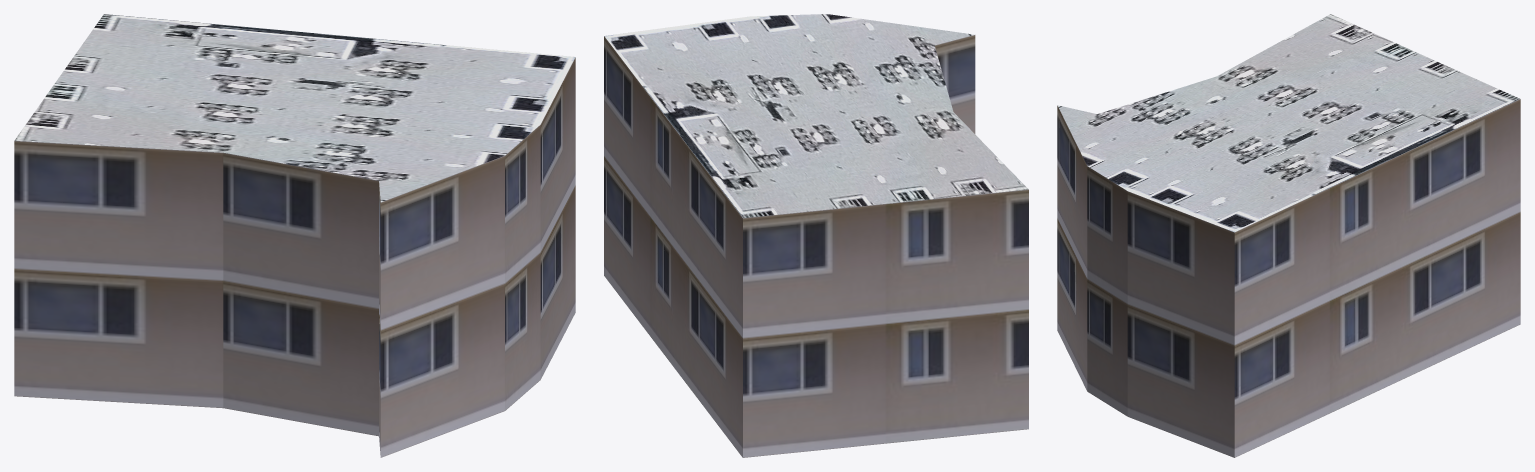
Rendered from ResTex__3467.fbx.
The picture shows the model from 3 angles, left to right: view 1: azimuth 30°, elevation 25°; view 2: azimuth 150°, elevation 25°; view 3: azimuth 270°, elevation 25°; orthographic projection. The views are drawn at different scales.
Visible parts, largest first — view 1: CityEngineMaterial_21_m, CityEngineMaterial_m; view 2: CityEngineMaterial_21_m, CityEngineMaterial_m; view 3: CityEngineMaterial_21_m, CityEngineMaterial_m.
Boxes of the visible parts, box(x1,y1,x2,y2) form: CityEngineMaterial_21_m: box(14, 57, 575, 457); CityEngineMaterial_m: box(14, 14, 575, 202); CityEngineMaterial_21_m: box(604, 35, 1028, 457); CityEngineMaterial_m: box(604, 14, 1028, 217); CityEngineMaterial_21_m: box(1057, 99, 1520, 457); CityEngineMaterial_m: box(1057, 14, 1519, 232).
Size of the model in its own units: 12.46 by 6 by 11.16.
2 materials, 2 textured.
